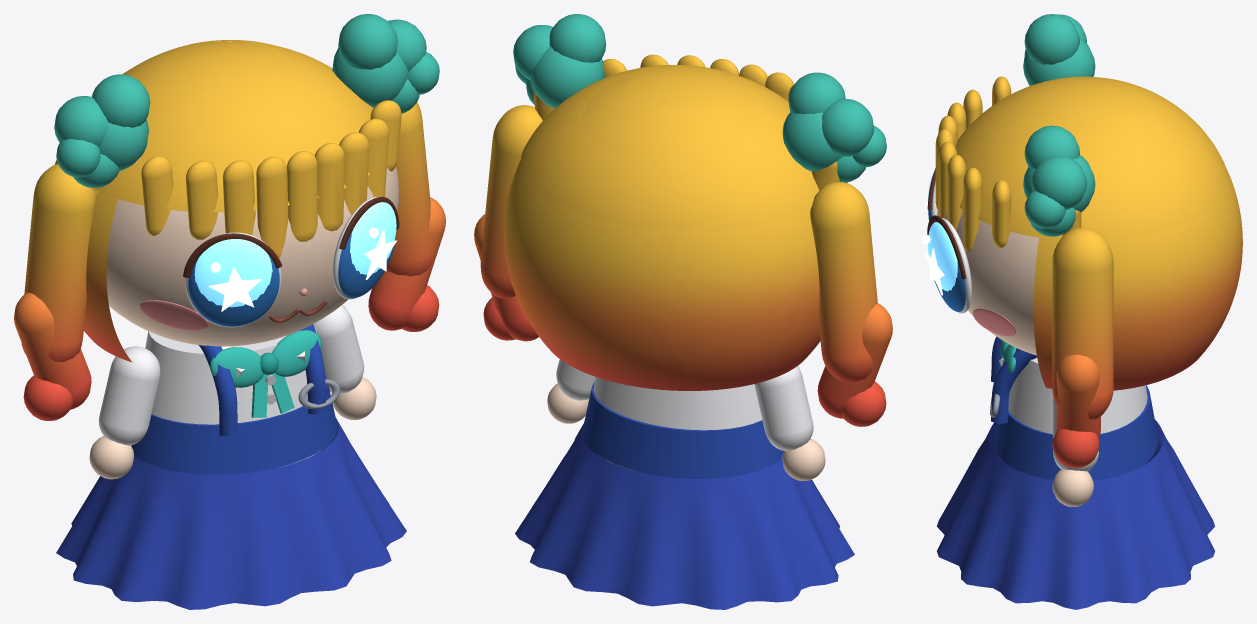
The model's file is after.glb.
3 views of the same model, side by side, from view 1: azimuth 30°, elevation 25°; view 2: azimuth 150°, elevation 25°; view 3: azimuth 270°, elevation 25° (orthographic). The views are drawn at different scales.
Visible parts, largest first — view 1: Head, HairCap, Skirt, object 2, object 3; view 2: HairCap, Skirt, Head; view 3: HairCap, Head, Skirt, object 2.
Part boxes in pixels (box(x1,y1,x2,y2)): Head: box(54, 14, 439, 479); HairCap: box(14, 40, 445, 420); Skirt: box(56, 418, 406, 609); object 2: box(194, 202, 396, 307); object 3: box(208, 229, 396, 311); HairCap: box(474, 54, 892, 426); Skirt: box(515, 423, 854, 609); Head: box(513, 14, 886, 480); HairCap: box(935, 76, 1242, 468); Head: box(927, 14, 1158, 506); Skirt: box(937, 419, 1214, 609); object 2: box(927, 171, 957, 291).
Bounding box in the file's own units: 3.27 × 3.7 × 2.31.
5 materials, 5 textured.
